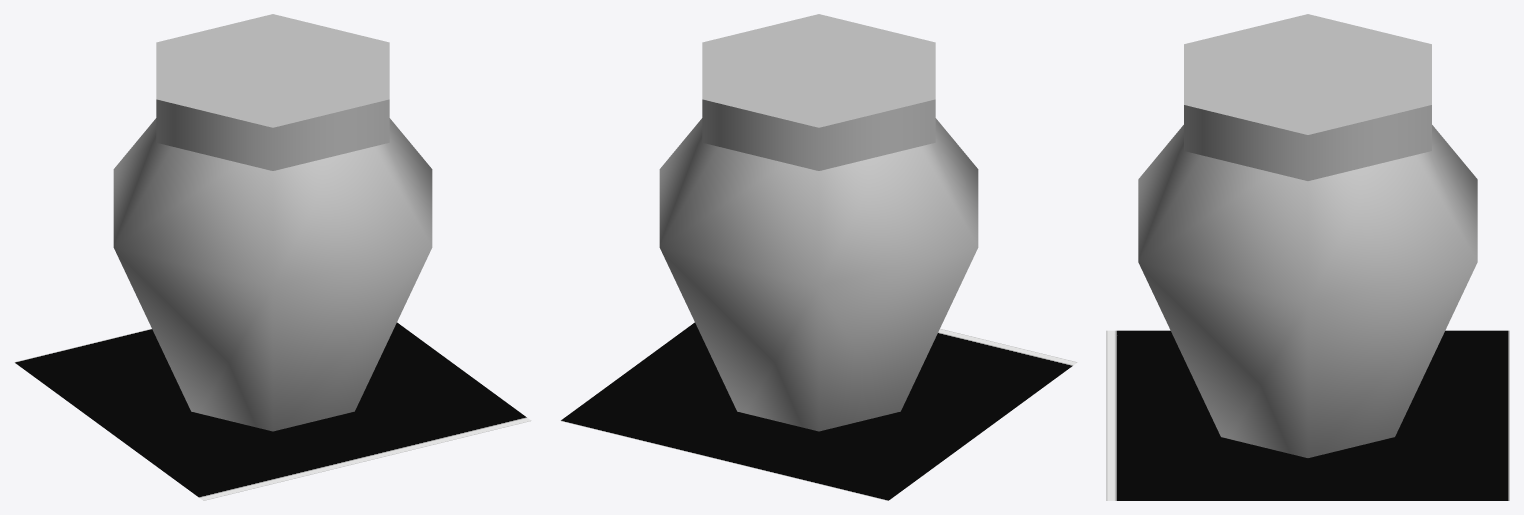
The model's file is vase_04.fbx.
3 renders of one model, left to right at view 1: azimuth 30°, elevation 25°; view 2: azimuth 150°, elevation 25°; view 3: azimuth 270°, elevation 25°, orthographic. The views are drawn at different scales.
Visible parts, largest first — view 1: vase_04, shadow; view 2: vase_04, shadow; view 3: vase_04, shadow.
Boxes of the visible parts, bbox=[...] form: vase_04: bbox=[113, 14, 432, 431]; shadow: bbox=[14, 322, 531, 500]; vase_04: bbox=[659, 14, 978, 431]; shadow: bbox=[560, 322, 1077, 500]; vase_04: bbox=[1138, 14, 1477, 457]; shadow: bbox=[1106, 330, 1509, 500].
Bounding box in the file's own units: 14.04 × 13.52 × 14.04.
